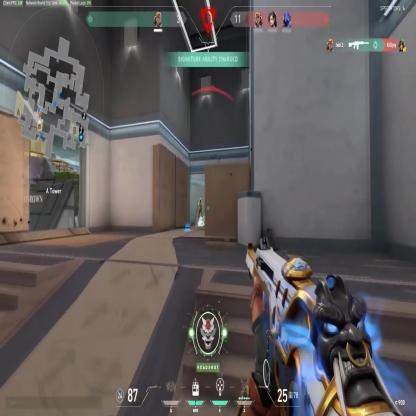enemy: (198, 196, 202, 223)
enemy_head: (199, 197, 202, 202)
